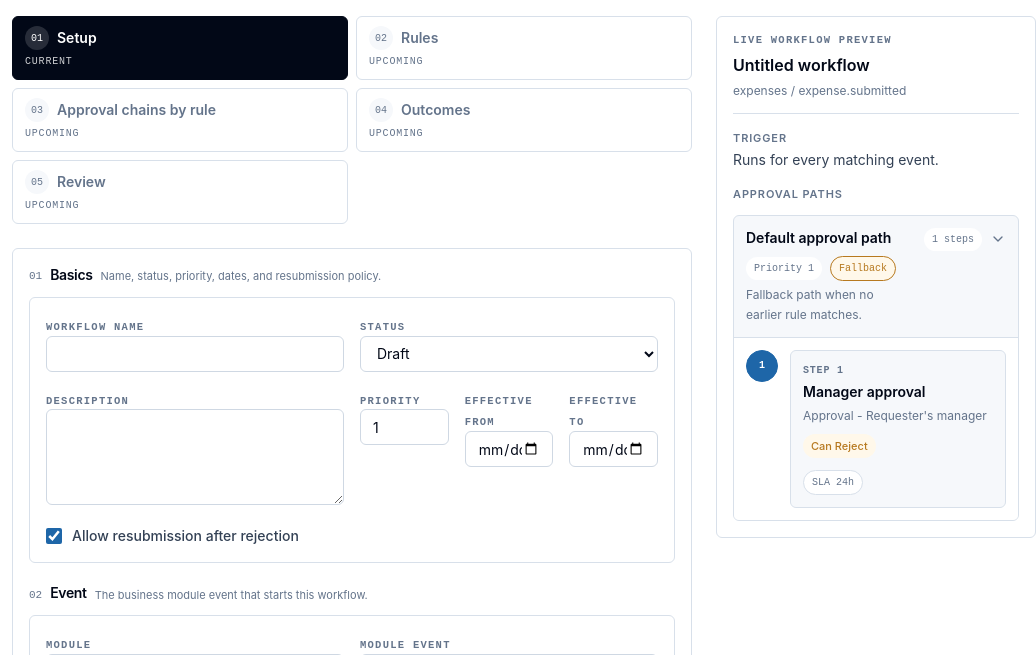
WorkflowBuilderPage trigger setup › shows only module-specific outcome options
Click the button "04 Outcomes Upcoming". click: {"x": 436, "y": 110}
box: [356,88,692,152]
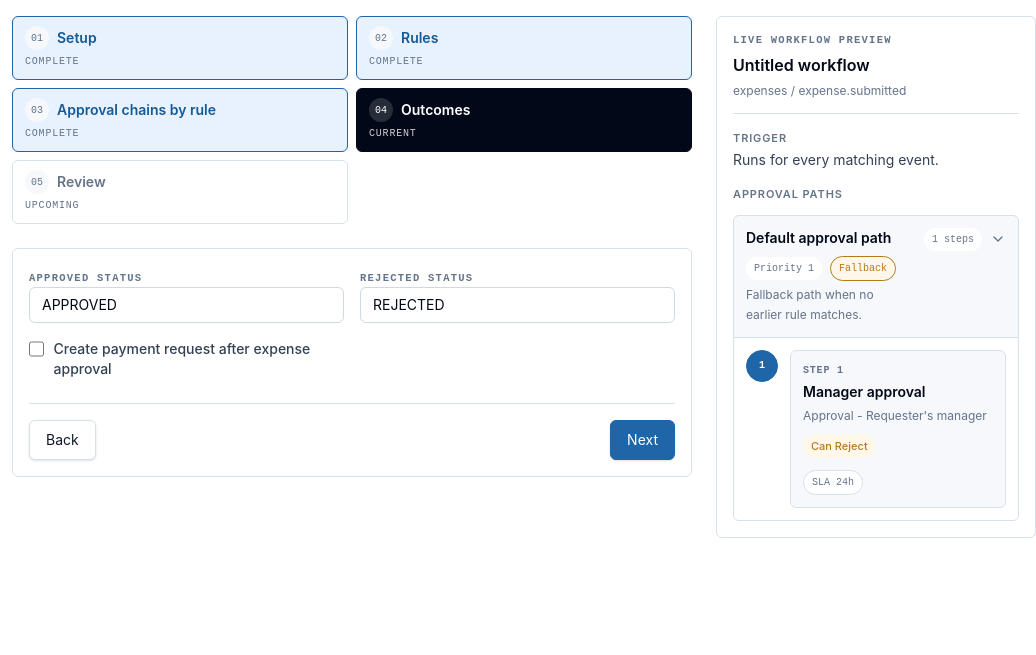
Expected: the text "Approved status" is shown, [29,272,142,284]
Expected: the text "Rejected status" is shown, [360,272,473,284]
Expected: the text labelled "Allow resubmission after rejection" is gone
Click the button "01 Setup Complete". click: {"x": 77, "y": 38}
box: [12,16,348,80]
(page scrolled)
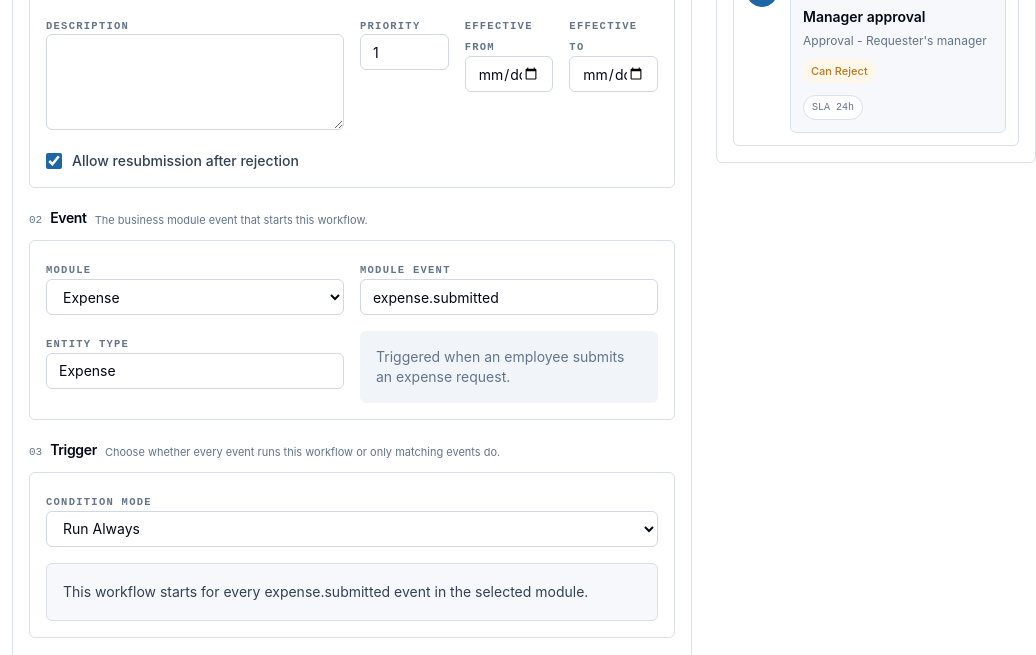
Select "Leave" in the 2nd dropdown showing "Expense". click: {"x": 195, "y": 297}
box: [46,279,344,315]
(page scrolled)
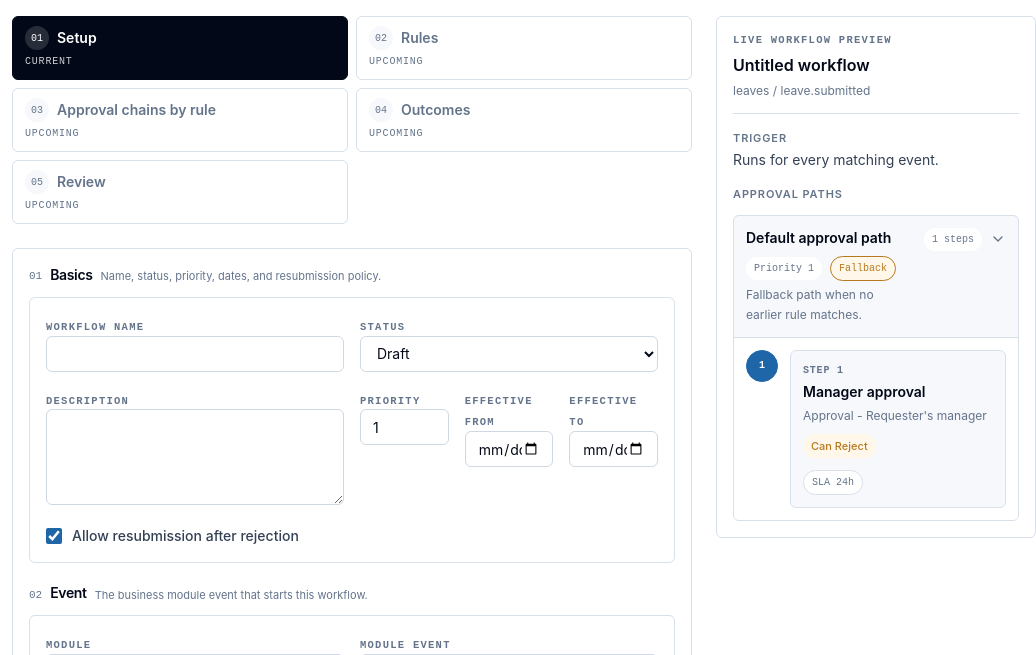
Click the button "04 Outcomes Upcoming". click: {"x": 436, "y": 110}
box: [356,88,692,152]
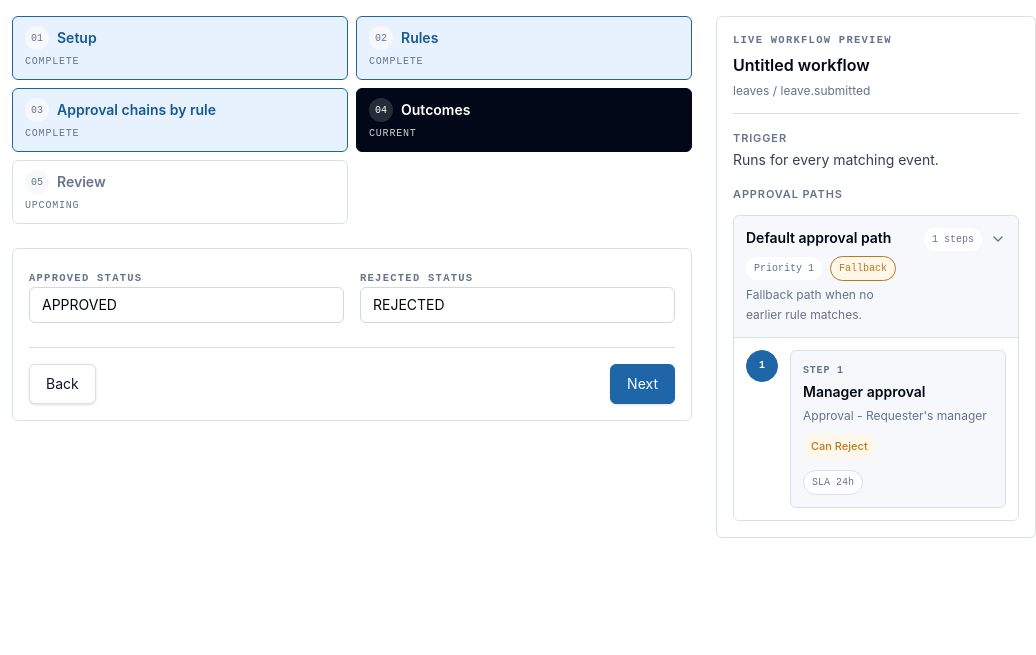
Expected: the text "Approved status" is shown, [29,272,142,284]
Expected: the text "Rejected status" is shown, [360,272,473,284]
Expected: the text labelled "Allow resubmission after rejection" is gone
